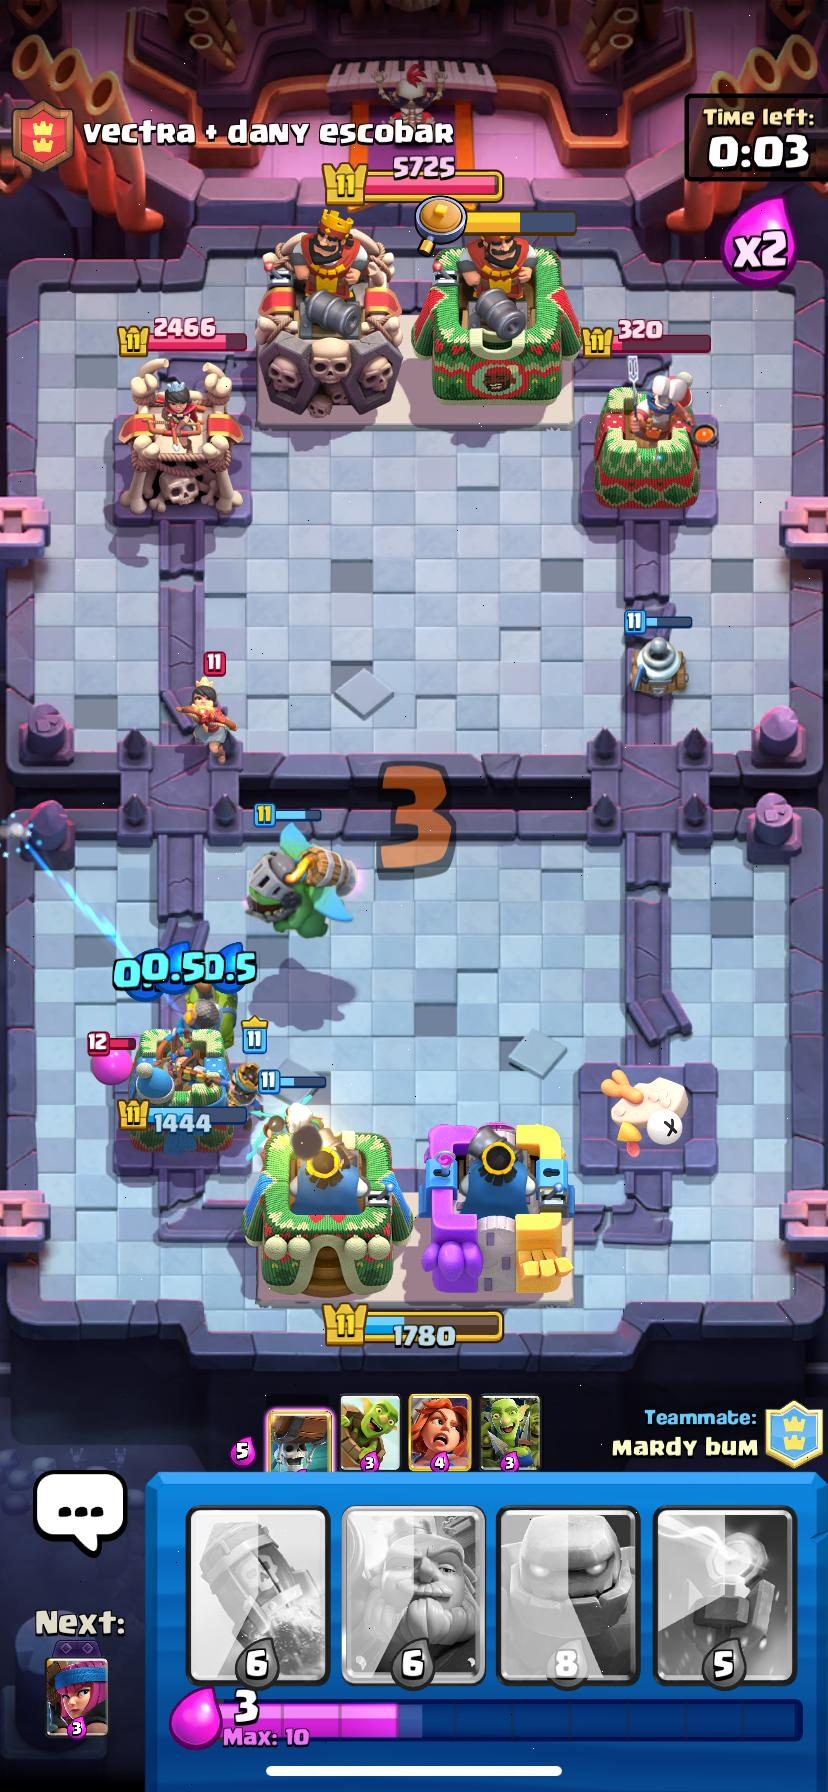EGolemMite: (87, 1031, 135, 1086)
EKingTower: (255, 210, 401, 417), (413, 237, 579, 402)
EPrincess: (164, 678, 236, 763)
EnemyPanTower: (594, 358, 717, 514)
EnemyPrincessTower: (117, 359, 242, 515)
OInfernoDrag: (246, 840, 357, 937)
OKnight: (176, 999, 223, 1030)
OLittlePrince: (229, 1062, 258, 1106)
OZappy: (629, 633, 687, 697)
OwnKingTower: (242, 1106, 413, 1294), (421, 1123, 573, 1299)
OwnPrincessTower: (117, 1022, 254, 1154)
TowerDown: (579, 1062, 717, 1175)
